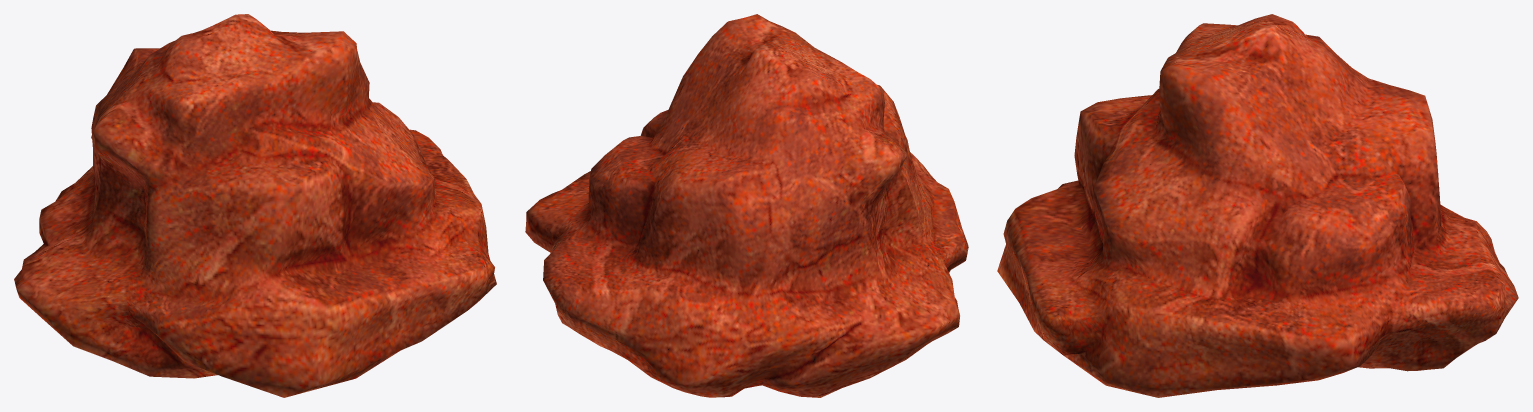
File: Rock_1.fbx
The picture shows the model from 3 angles, left to right: view 1: azimuth 30°, elevation 25°; view 2: azimuth 150°, elevation 25°; view 3: azimuth 270°, elevation 25°; orthographic projection. The views are drawn at different scales.
Visible parts, largest first — view 1: Rock_1; view 2: Rock_1; view 3: Rock_1.
Part boxes in pixels (left/top/right/bottom): Rock_1: left=14, top=14, right=496, bottom=397; Rock_1: left=525, top=14, right=968, bottom=397; Rock_1: left=997, top=14, right=1518, bottom=397.
Size of the model in its own units: 2.24 by 1.64 by 2.28.
1 material, 1 textured.
